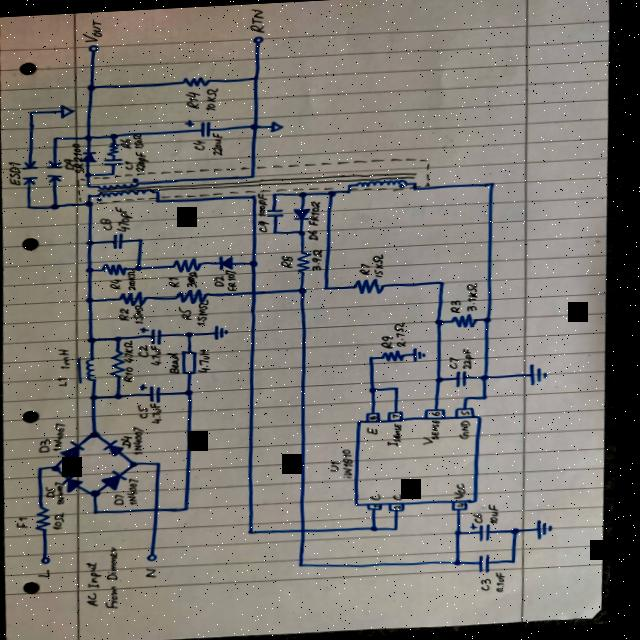capacitor: (185, 118, 214, 138), (474, 521, 498, 542), (142, 382, 166, 403), (141, 326, 167, 345), (482, 552, 499, 574), (457, 369, 473, 387), (113, 232, 128, 250), (104, 157, 127, 166), (269, 207, 287, 218)
crossover: (303, 526, 314, 535), (156, 505, 166, 514), (252, 288, 262, 296)
diode: (64, 439, 92, 464), (105, 468, 132, 490), (66, 472, 90, 493), (106, 438, 132, 457), (294, 207, 315, 220), (220, 255, 238, 270), (82, 150, 99, 163)
ground: (530, 361, 553, 386), (539, 517, 561, 540), (216, 324, 233, 342), (415, 346, 431, 362), (60, 103, 77, 118), (270, 119, 287, 132)
inductor: (356, 170, 410, 189), (80, 355, 103, 384), (98, 188, 157, 198), (184, 350, 204, 374), (97, 182, 143, 190)
junction: (94, 487, 108, 498), (92, 392, 103, 402), (90, 334, 101, 344), (516, 526, 528, 535), (187, 388, 199, 397), (133, 459, 145, 468), (186, 329, 198, 338), (95, 507, 107, 516), (94, 429, 106, 438), (483, 372, 493, 382), (85, 132, 95, 142), (51, 201, 62, 210), (55, 463, 66, 472), (323, 283, 334, 292), (88, 265, 98, 274), (87, 82, 97, 91), (87, 295, 97, 304), (117, 391, 127, 400), (251, 258, 261, 267), (438, 376, 449, 384), (458, 558, 469, 566), (251, 122, 262, 130), (374, 524, 385, 532), (488, 180, 499, 188), (302, 560, 313, 568), (251, 528, 262, 536), (372, 386, 382, 394), (459, 528, 469, 536), (300, 190, 310, 198), (515, 556, 525, 564), (87, 238, 97, 246), (40, 464, 50, 472), (301, 286, 311, 294), (158, 460, 168, 468), (186, 504, 196, 512), (438, 318, 448, 326), (251, 74, 261, 82), (117, 334, 126, 342), (370, 354, 380, 361), (110, 132, 120, 139), (251, 173, 259, 180), (330, 190, 339, 196), (397, 525, 406, 531), (137, 264, 146, 270), (139, 236, 147, 242), (273, 191, 281, 197), (397, 385, 405, 391), (88, 201, 96, 207), (52, 135, 60, 141), (27, 203, 35, 209), (29, 109, 37, 115), (300, 229, 308, 235), (486, 316, 494, 322), (86, 172, 94, 178), (441, 280, 448, 286), (485, 394, 493, 399), (274, 229, 282, 234), (252, 194, 259, 199), (111, 171, 118, 175), (413, 182, 420, 186), (468, 396, 474, 400), (88, 184, 94, 188), (89, 194, 95, 198), (156, 198, 162, 202), (157, 190, 163, 194), (348, 190, 354, 194), (349, 183, 354, 187), (414, 187, 420, 190)
resistor: (176, 287, 211, 305), (354, 277, 388, 295), (172, 256, 206, 274), (112, 348, 131, 378), (38, 506, 58, 532), (121, 290, 151, 306), (181, 74, 213, 88), (298, 250, 316, 274), (454, 313, 482, 328), (103, 262, 131, 276), (383, 349, 410, 362), (107, 140, 122, 156)
terminal: (150, 552, 166, 562), (44, 554, 58, 565), (252, 34, 264, 44), (88, 44, 101, 52)
text: (108, 546, 127, 608), (90, 560, 111, 606), (81, 18, 104, 44), (116, 205, 136, 232), (425, 418, 445, 444), (72, 142, 88, 174), (248, 7, 266, 34), (135, 424, 151, 454), (57, 421, 73, 451), (467, 282, 483, 312), (345, 448, 360, 478), (130, 477, 146, 505), (8, 160, 24, 187), (205, 86, 221, 112), (198, 300, 214, 326), (390, 422, 407, 446), (397, 320, 411, 348), (200, 348, 216, 372), (310, 200, 324, 227), (60, 348, 77, 370), (373, 252, 387, 278), (227, 268, 242, 292), (464, 348, 480, 370), (136, 150, 152, 172), (212, 131, 226, 156), (499, 570, 514, 592), (153, 402, 168, 424), (127, 338, 140, 363), (313, 248, 327, 271), (171, 350, 185, 373), (58, 480, 71, 504), (186, 90, 203, 108), (462, 419, 477, 439), (134, 304, 149, 324), (153, 344, 167, 365), (259, 192, 271, 216), (450, 354, 466, 370), (457, 482, 472, 499), (57, 512, 71, 530), (188, 270, 202, 288), (282, 254, 298, 269), (181, 305, 197, 320), (133, 132, 147, 149), (101, 216, 116, 231), (124, 434, 139, 449), (485, 576, 499, 592), (120, 306, 134, 322), (493, 504, 504, 524), (129, 270, 140, 290), (383, 334, 398, 348), (42, 438, 57, 452), (452, 298, 465, 314), (140, 404, 154, 418), (140, 344, 154, 358), (117, 492, 131, 506), (20, 516, 36, 528), (126, 366, 138, 382), (149, 566, 164, 578), (170, 276, 185, 288), (260, 219, 273, 232), (309, 228, 322, 241), (65, 157, 78, 170), (216, 274, 229, 287), (361, 262, 374, 275), (193, 139, 208, 150), (112, 278, 127, 289), (334, 459, 346, 472), (50, 485, 62, 498), (43, 568, 58, 578), (477, 512, 490, 523), (60, 376, 74, 386), (121, 138, 134, 148), (371, 426, 383, 435), (126, 160, 136, 170), (376, 492, 387, 501), (398, 492, 408, 501), (465, 408, 475, 416), (435, 409, 445, 416), (462, 502, 471, 506), (396, 413, 403, 418), (373, 415, 381, 419), (399, 504, 406, 508), (378, 504, 385, 507)
